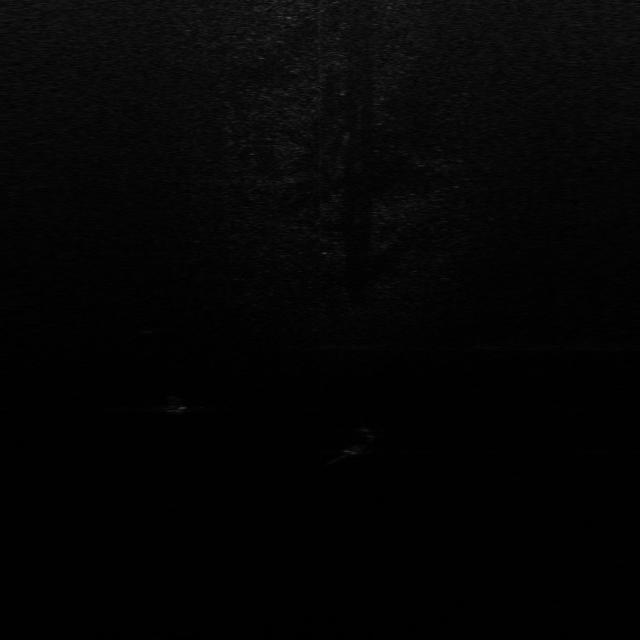ball: (163, 396, 193, 413)
circle cage: (136, 316, 160, 334)
tyre: (343, 428, 376, 455)
